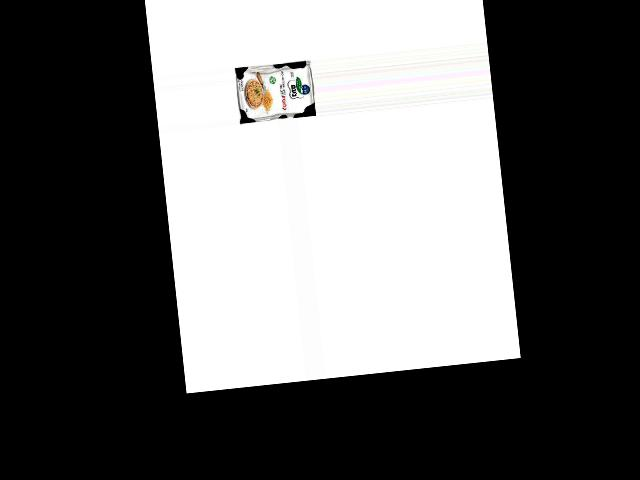cheese: (232, 59, 316, 125)
